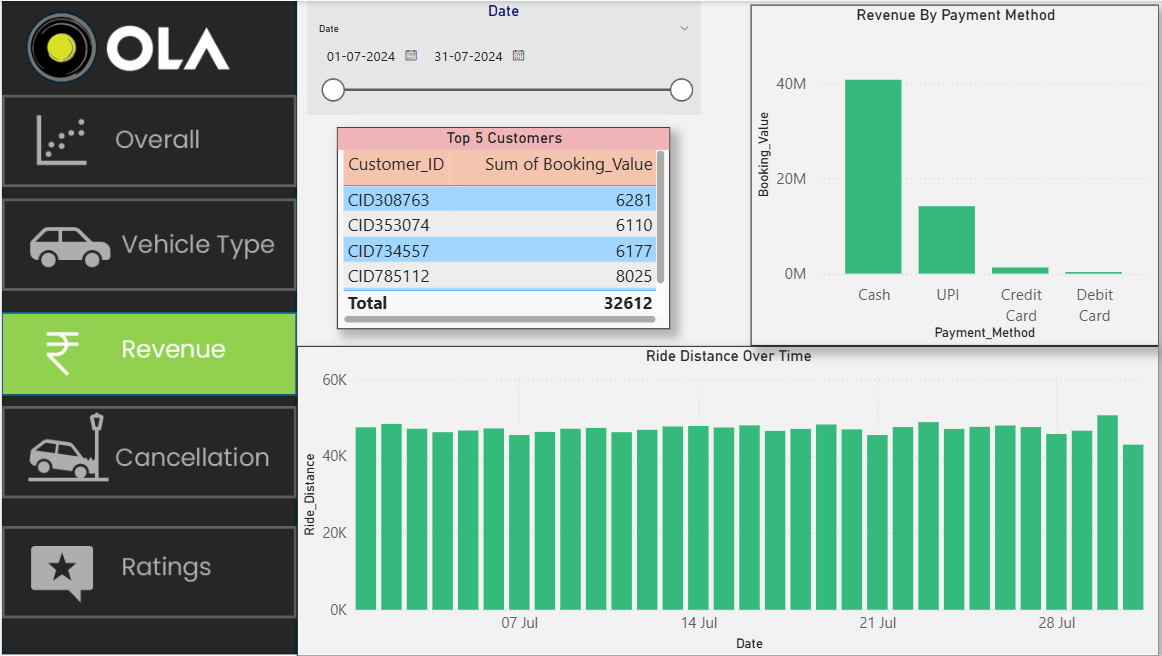

The dashboard page shown, as its layout file describes it:
{"tool":"powerbi","page":{"name":"Revenue","canvas":[1280,720],"ordinal":2},"visuals":[{"type":"actionButton","box":[0,217.2,323.3,101.3],"z":0},{"type":"actionButton","box":[0,445.2,323.3,101.3],"z":1000},{"type":"actionButton","box":[0,576.7,323.3,101.3],"z":2000},{"type":"actionButton","box":[0,102.5,323.3,101.3],"z":3000},{"type":"columnChart","title":"Revenue By Payment Method","fields":{"Y":["Sum(Bookings_Cleaned.Booking_Value)"],"Category":["Bookings_Cleaned.Payment_Method"]},"box":[821.7,4.2,448.7,374.4],"z":4000},{"type":"columnChart","title":"Ride Distance Over Time","fields":{"Category":["Bookings_Cleaned.Date"],"Y":["Sum(Bookings_Cleaned.Ride_Distance)"]},"box":[323.9,378.6,946.5,340.8],"z":5000},{"type":"slicer","title":"Date","fields":{"Values":["Bookings_Cleaned.Date"]},"box":[335.1,0,431.9,124.8],"z":6000},{"type":"tableEx","title":"Top 5 Customers","fields":{"Values":["Bookings_Cleaned.Customer_ID","Sum(Bookings_Cleaned.Booking_Value)"]},"box":[367.4,138.8,366,221.6],"z":7000}]}

Visuals, with their boxes in screenshot pixels (x1, y1, x2, y2), scaled from the page's 1280x720 canvas onto the 1162x656 screenshot:
actionButton: left=0, top=198, right=293, bottom=290
actionButton: left=0, top=406, right=293, bottom=498
actionButton: left=0, top=525, right=293, bottom=618
actionButton: left=0, top=93, right=293, bottom=186
"Revenue By Payment Method" columnChart: left=746, top=4, right=1153, bottom=345
"Ride Distance Over Time" columnChart: left=294, top=345, right=1153, bottom=655
"Date" slicer: left=304, top=0, right=696, bottom=114
"Top 5 Customers" tableEx: left=334, top=126, right=666, bottom=328
